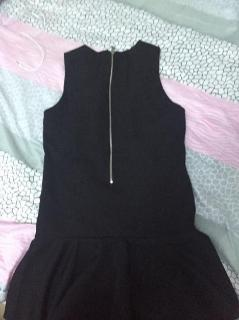vest: (3, 40, 239, 319)
